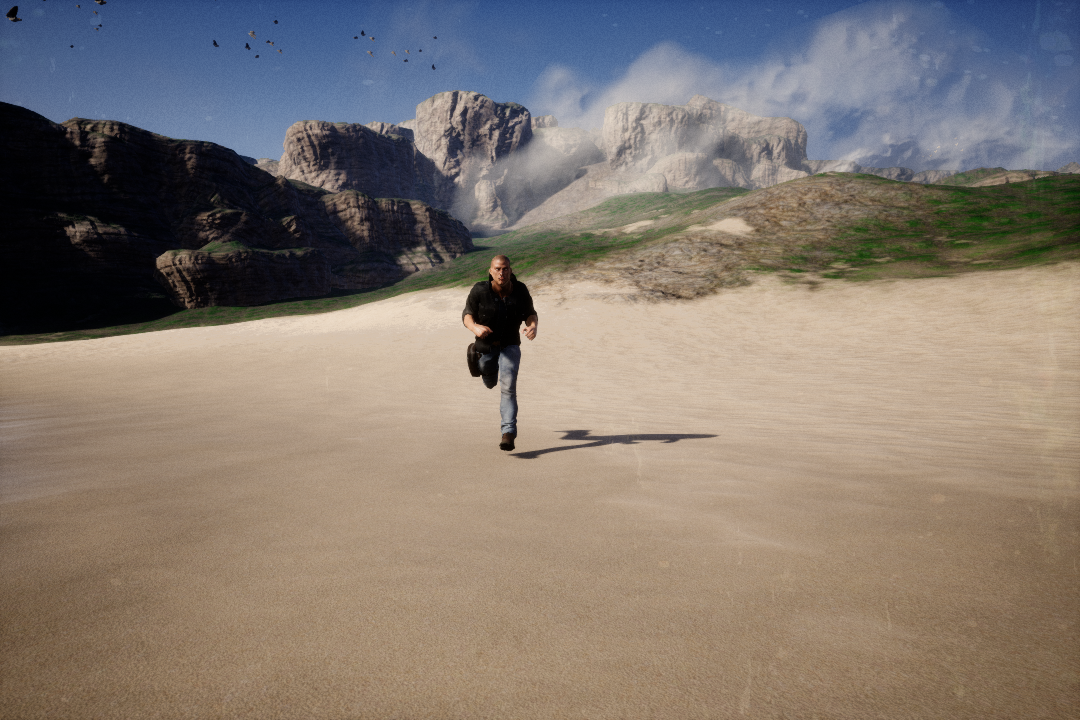person: (461, 256, 546, 457)
